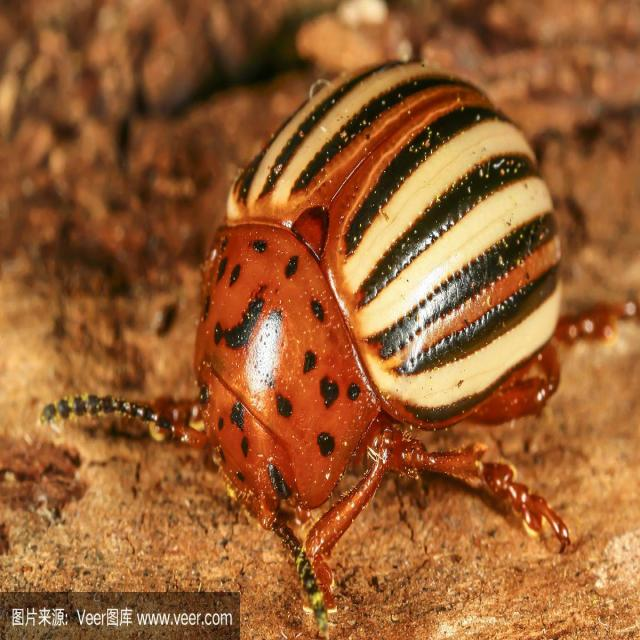ShuCaiHuaBanChong-Grown-: (185, 94, 593, 586)
